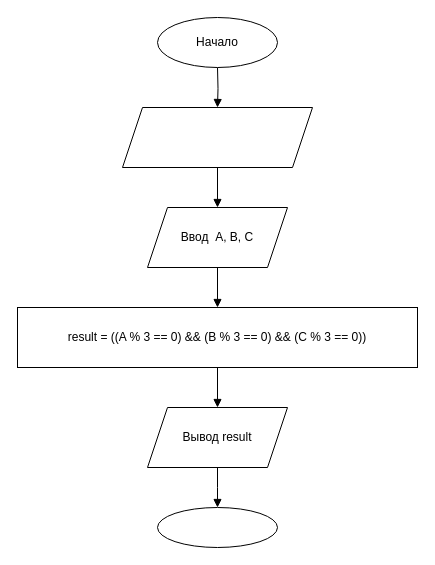
Image size: 435x565. Some labels were removed from this diagram. The shapes that lost their labels are listed below. From the top down, each one's centre as x and y in pixels, then its label:
[217,137]: Вывод условия задачи
[217,527]: КОНЕЦ
